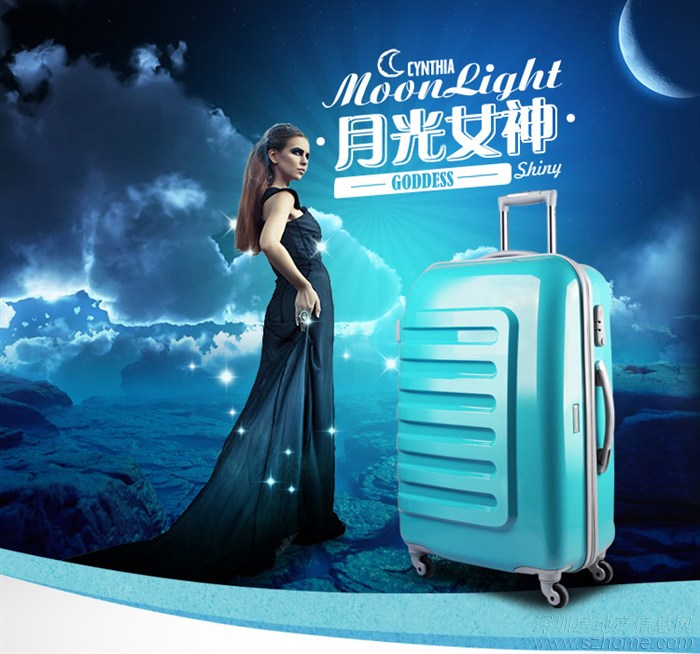luggage: (394, 186, 618, 614)
